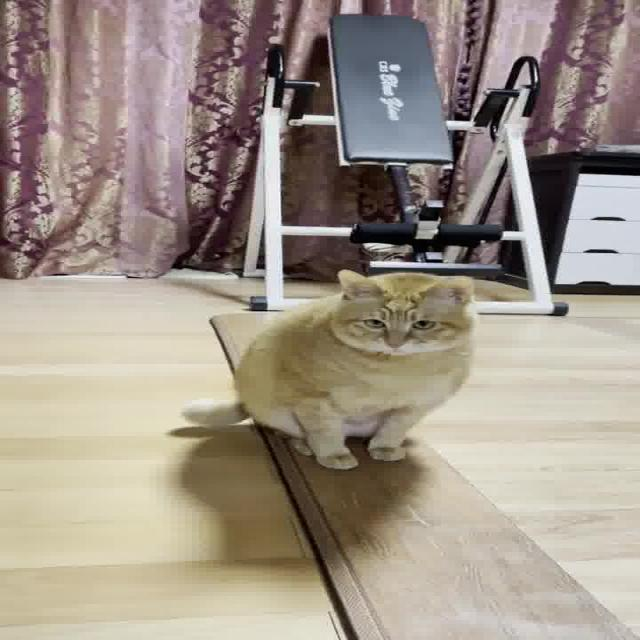cat: (172, 264, 498, 474)
